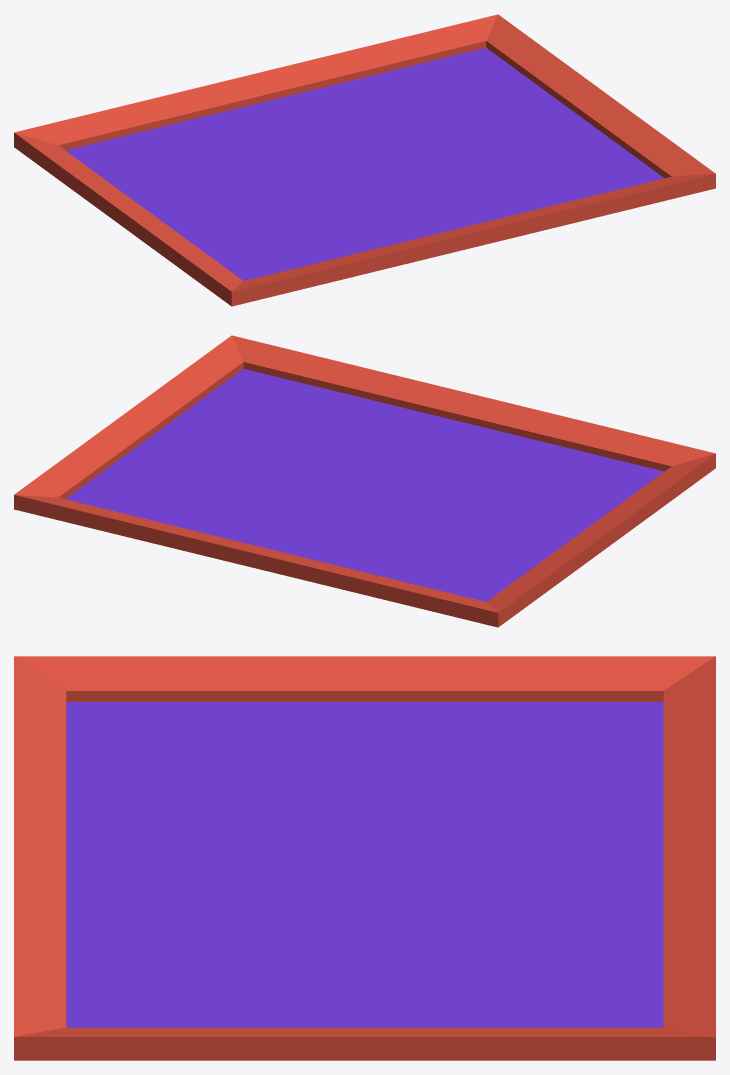
Rendered from 4_3Frame.fbx.
The picture shows the model from 3 angles, top to bottom: view 1: azimuth 30°, elevation 25°; view 2: azimuth 150°, elevation 25°; view 3: azimuth 270°, elevation 25°; orthographic projection. The views are drawn at different scales.
Parts seen in each view (by area): view 1: 4_3Frame; view 2: 4_3Frame; view 3: 4_3Frame.
Boxes of the visible parts, left/top/right/bottom form: 4_3Frame: left=14, top=14, right=715, bottom=306; 4_3Frame: left=14, top=335, right=715, bottom=627; 4_3Frame: left=14, top=656, right=715, bottom=1060.
Size of the model in its own units: 121 by 3.5 by 94.
